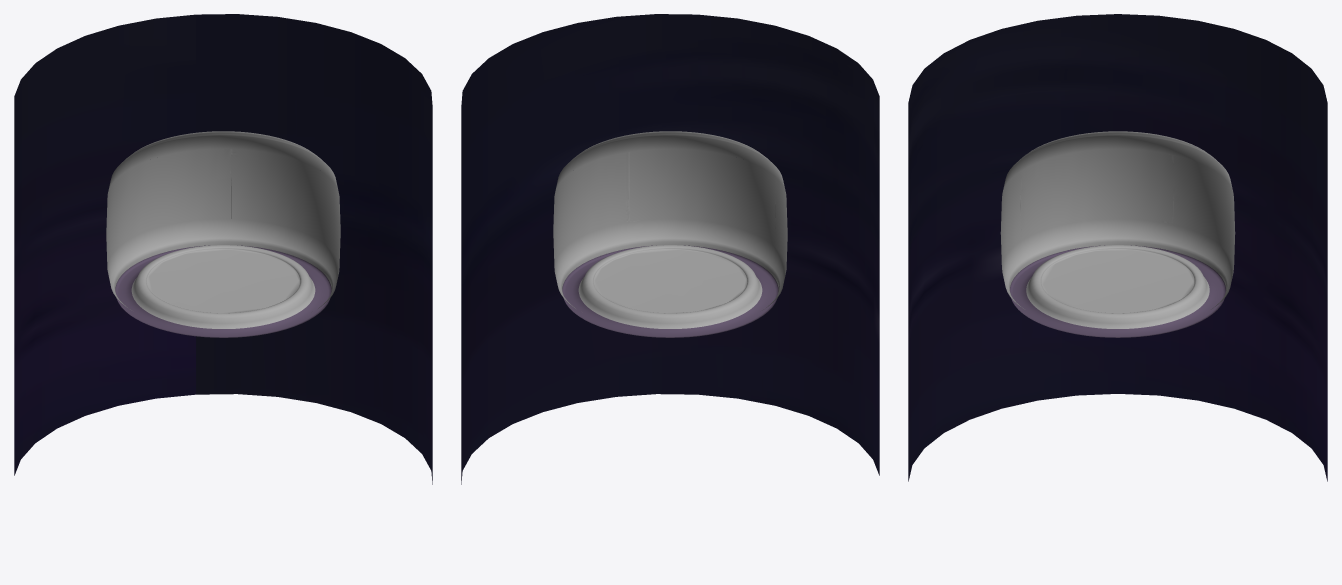
Rendered from auction-dome.glb.
The picture shows the model from 3 angles, left to right: view 1: azimuth 30°, elevation 25°; view 2: azimuth 150°, elevation 25°; view 3: azimuth 270°, elevation 25°; orthographic projection.
Parts seen in each view (by area): view 1: Background_Material.004_0, Dome_Metal_0, Dome_Glass_0, Dome_Rim_0; view 2: Background_Material.004_0, Dome_Metal_0, Dome_Glass_0, Dome_Rim_0; view 3: Background_Material.004_0, Dome_Metal_0, Dome_Glass_0, Dome_Rim_0.
Boxes of the visible parts, x1,y1,x2,y2 form: Background_Material.004_0: [14, 14, 432, 484]; Dome_Metal_0: [107, 131, 339, 328]; Dome_Glass_0: [106, 149, 340, 267]; Dome_Rim_0: [115, 245, 331, 337]; Background_Material.004_0: [461, 14, 879, 484]; Dome_Metal_0: [554, 131, 786, 328]; Dome_Glass_0: [553, 149, 787, 267]; Dome_Rim_0: [562, 245, 778, 337]; Background_Material.004_0: [908, 14, 1327, 481]; Dome_Metal_0: [1002, 131, 1233, 328]; Dome_Glass_0: [1000, 149, 1235, 265]; Dome_Rim_0: [1010, 245, 1225, 337].
Size of the model in its own units: 10.87 by 10.87 by 10.87.
5 materials, 2 textured.
